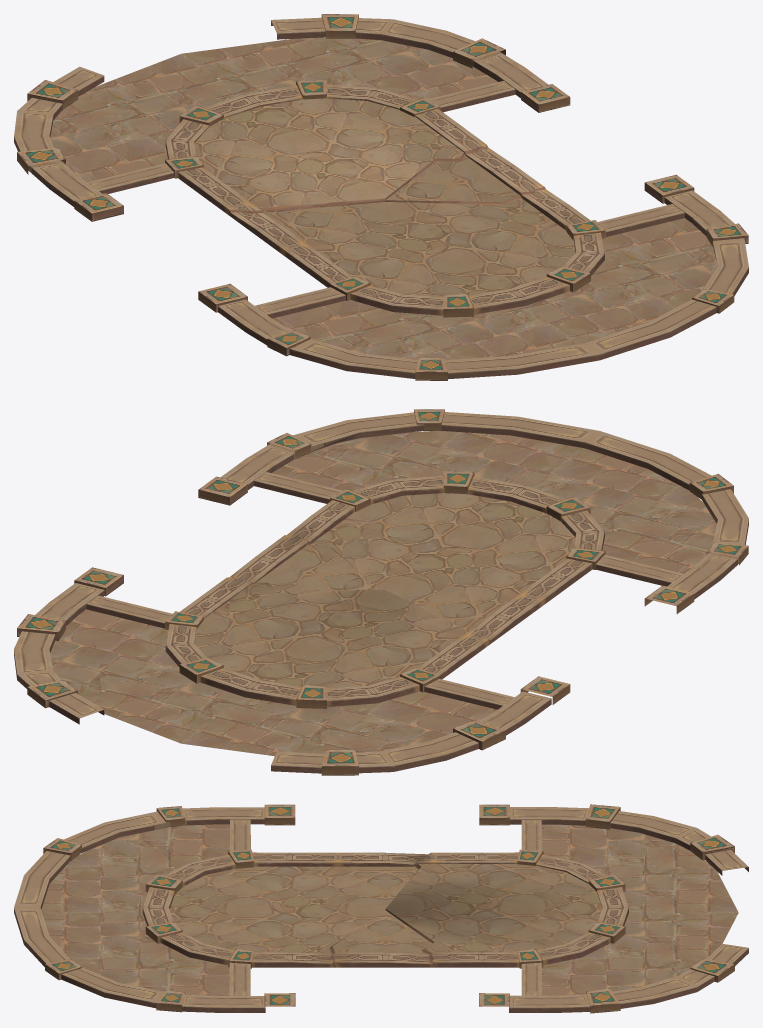
File: Map_11_brick04.FBX
3 renders of one model, top to bottom at view 1: azimuth 30°, elevation 25°; view 2: azimuth 150°, elevation 25°; view 3: azimuth 270°, elevation 25°, orthographic. The views are drawn at different scales.
Parts seen in each view (by area): view 1: Map_11_brick04; view 2: Map_11_brick04; view 3: Map_11_brick04.
Part boxes in pixels (x1=…): Map_11_brick04: x1=14, y1=14, x2=748, y2=380; Map_11_brick04: x1=14, y1=409, x2=748, y2=775; Map_11_brick04: x1=14, y1=804, x2=748, y2=1013.
Size of the model in its own units: 2016 by 37.53 by 3101.
